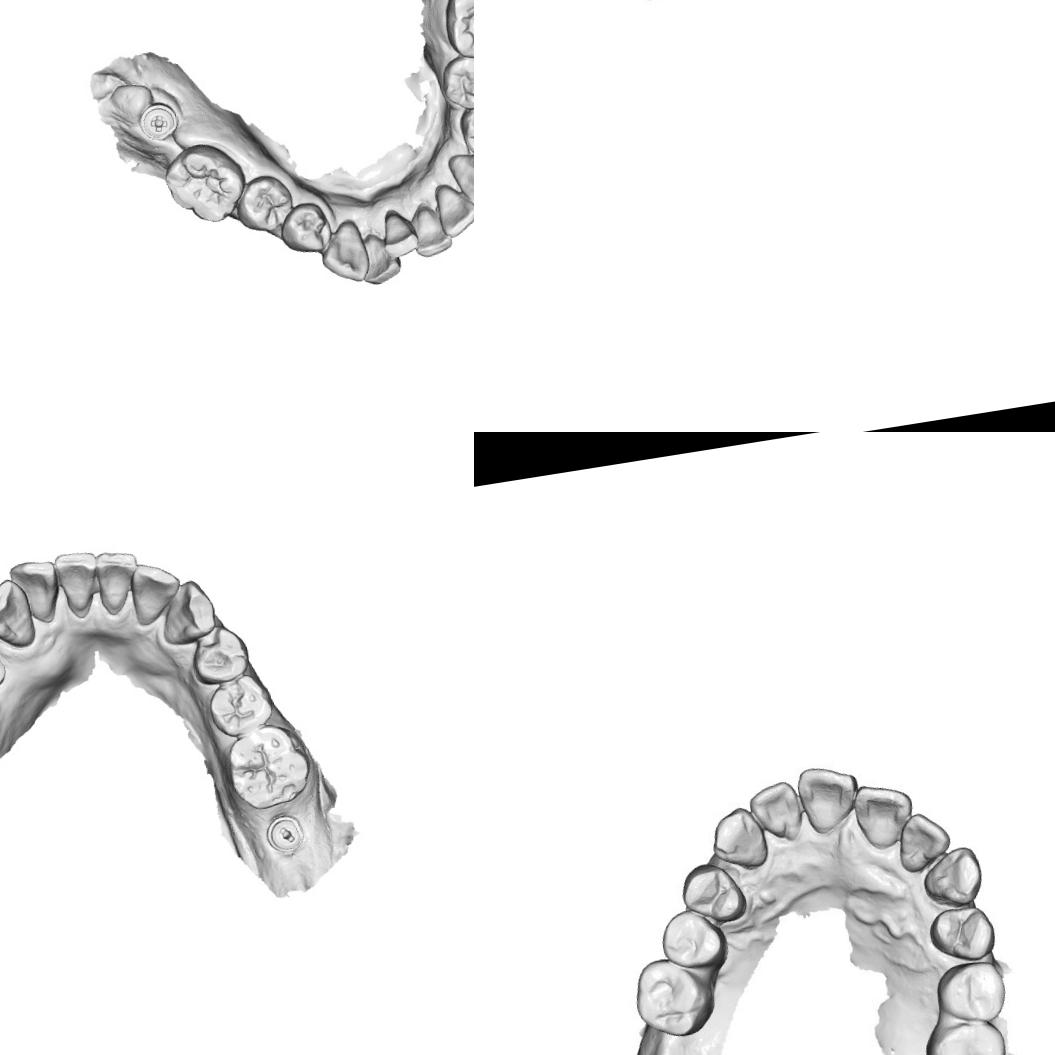canine: (153, 575, 221, 649), (916, 844, 989, 912), (314, 215, 376, 288), (704, 806, 774, 870), (0, 573, 40, 655), (443, 143, 474, 212)
implant_minus: (260, 808, 308, 856), (0, 648, 10, 692)
implant_plus: (135, 97, 184, 144)
incisor: (798, 761, 865, 836), (125, 556, 188, 629), (850, 782, 914, 850), (6, 555, 65, 628), (91, 547, 146, 620), (894, 810, 956, 874), (748, 780, 804, 846), (52, 546, 105, 614), (407, 196, 457, 260), (430, 175, 474, 242), (357, 231, 407, 288), (374, 204, 420, 262)
molar: (156, 136, 252, 230), (222, 720, 317, 814), (626, 952, 715, 1044), (918, 1012, 1013, 1055), (438, 0, 474, 66)
premolar: (929, 960, 1009, 1028), (655, 905, 730, 975), (229, 168, 301, 238), (204, 671, 276, 741), (678, 858, 748, 929), (927, 898, 1000, 964), (185, 623, 254, 689), (274, 196, 337, 260), (435, 46, 474, 116), (452, 96, 474, 163)
